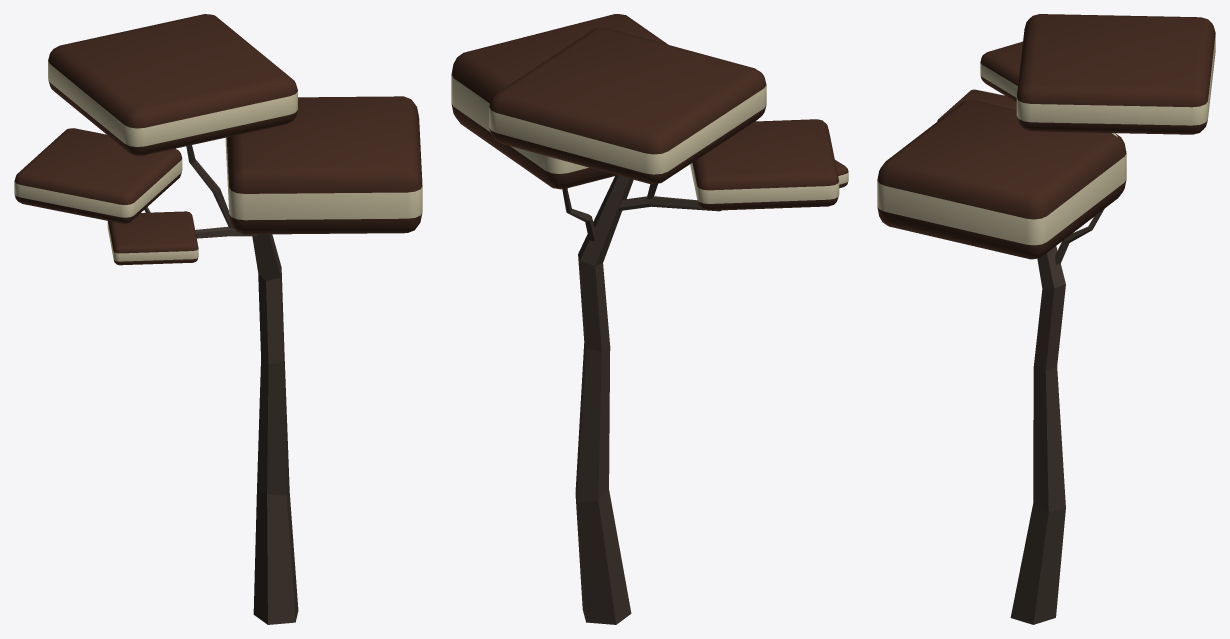
The model's file is tree_ice.glb.
3 views of the same model, side by side, from view 1: azimuth 30°, elevation 25°; view 2: azimuth 150°, elevation 25°; view 3: azimuth 270°, elevation 25° (orthographic). The views are drawn at different scales.
Visible parts, largest first — view 1: TreeTall_04; view 2: TreeTall_04; view 3: TreeTall_04.
Boxes of the visible parts, x1=… form: TreeTall_04: x1=14, y1=14, x2=422, y2=624; TreeTall_04: x1=451, y1=14, x2=848, y2=624; TreeTall_04: x1=877, y1=14, x2=1215, y2=624.
Size of what is drawn, in the model's own units: 4.51 by 6.15 by 3.54.
Materials: 1 (1 with a texture image).
